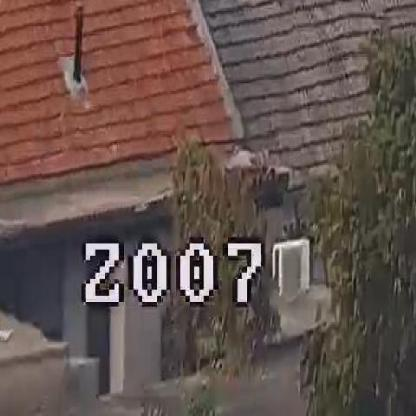other: (0, 5, 230, 134)
